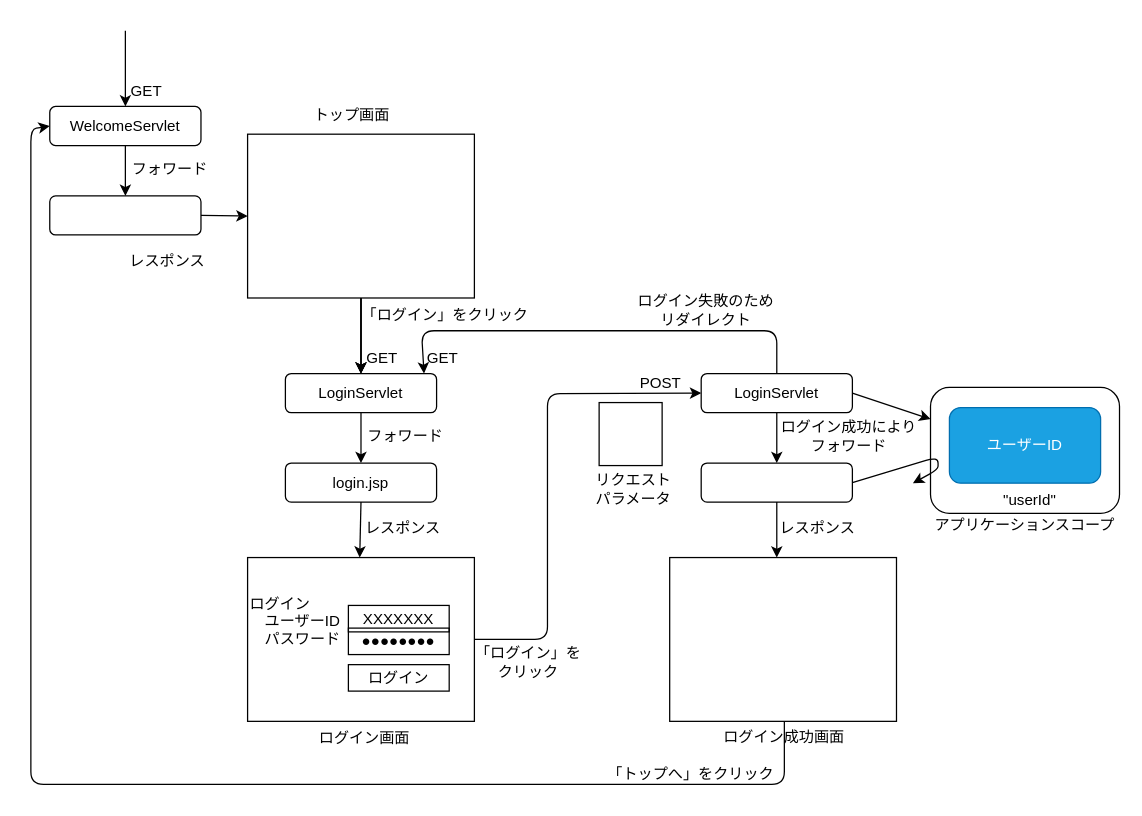
Image size: 1142x816. Some labels were removed from this diagram. The centre of each missing label's shape, as x and y in pixels:
"loginOK.jsp" goes at (x=776, y=482).
"userId pass" goes at (x=630, y=433).
"welcome.jsp" goes at (x=125, y=215).
"メニュー ・ ログイン ・ ユーザー登録" goes at (x=360, y=215).
"ログイン成功 ようこそ{ユーザーID}さん JAVAクイズ(10問)へ トップへ" goes at (x=782, y=638).
